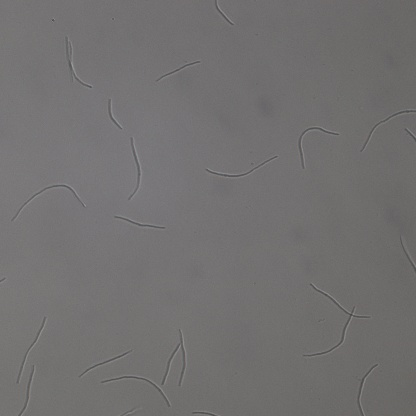Sensitive: (11, 182, 88, 224), (302, 307, 355, 359), (100, 375, 171, 409), (361, 107, 416, 149), (312, 284, 370, 320), (18, 317, 46, 383), (205, 154, 278, 179), (297, 125, 339, 168), (161, 327, 189, 386), (64, 37, 92, 88), (79, 349, 131, 376), (355, 364, 377, 416), (128, 137, 145, 200), (156, 60, 199, 80), (114, 216, 166, 232), (19, 366, 34, 416), (398, 237, 416, 270), (105, 97, 122, 129), (214, 1, 235, 26)
